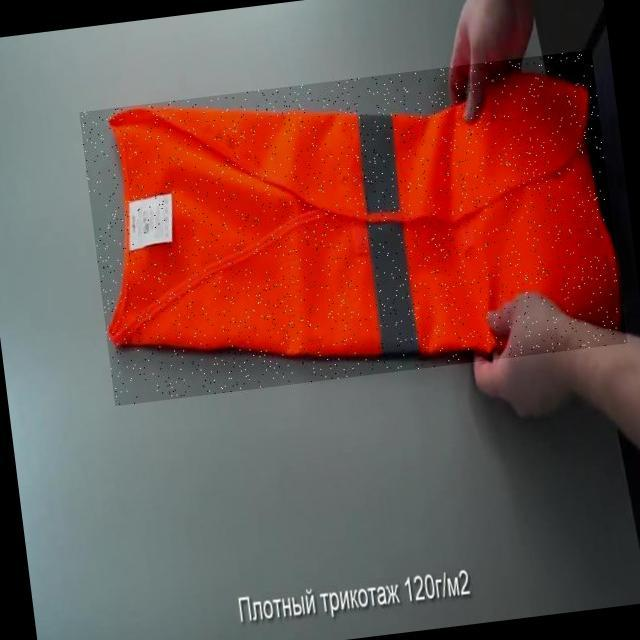Safety Vest: (79, 49, 627, 406)
bare-arms: (453, 282, 619, 428), (445, 0, 539, 132)
